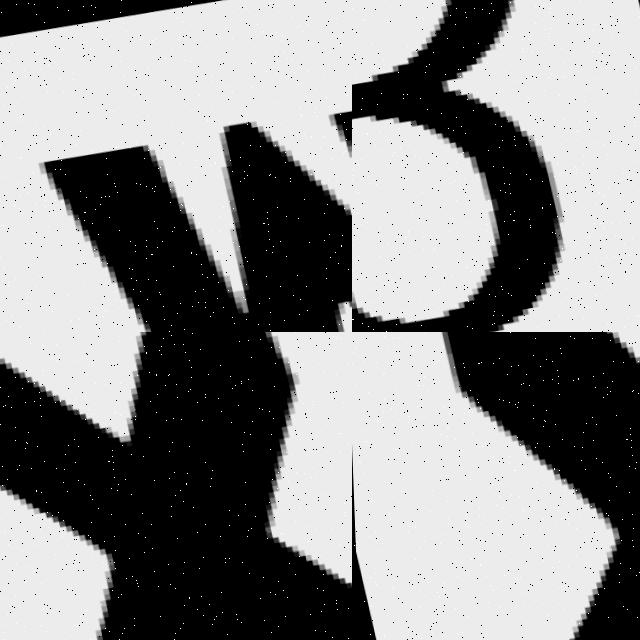3: (352, 0, 604, 332)
M: (25, 47, 352, 332)
X: (0, 332, 352, 640), (416, 332, 640, 640)
